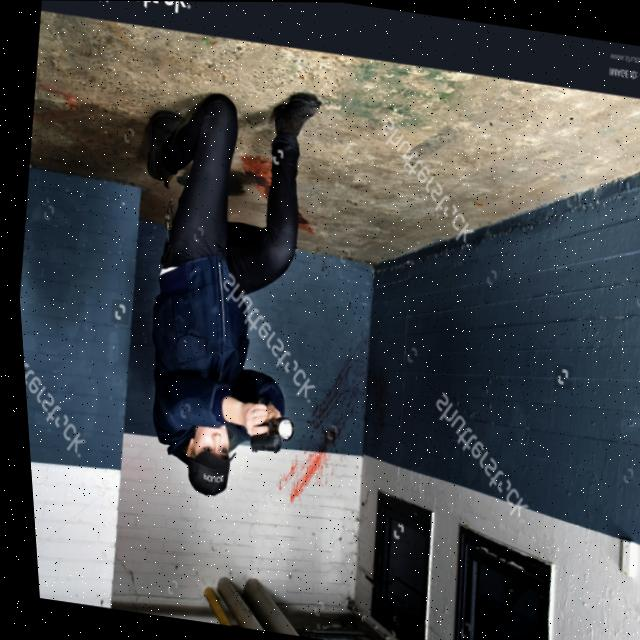pistol: (242, 427, 277, 456)
